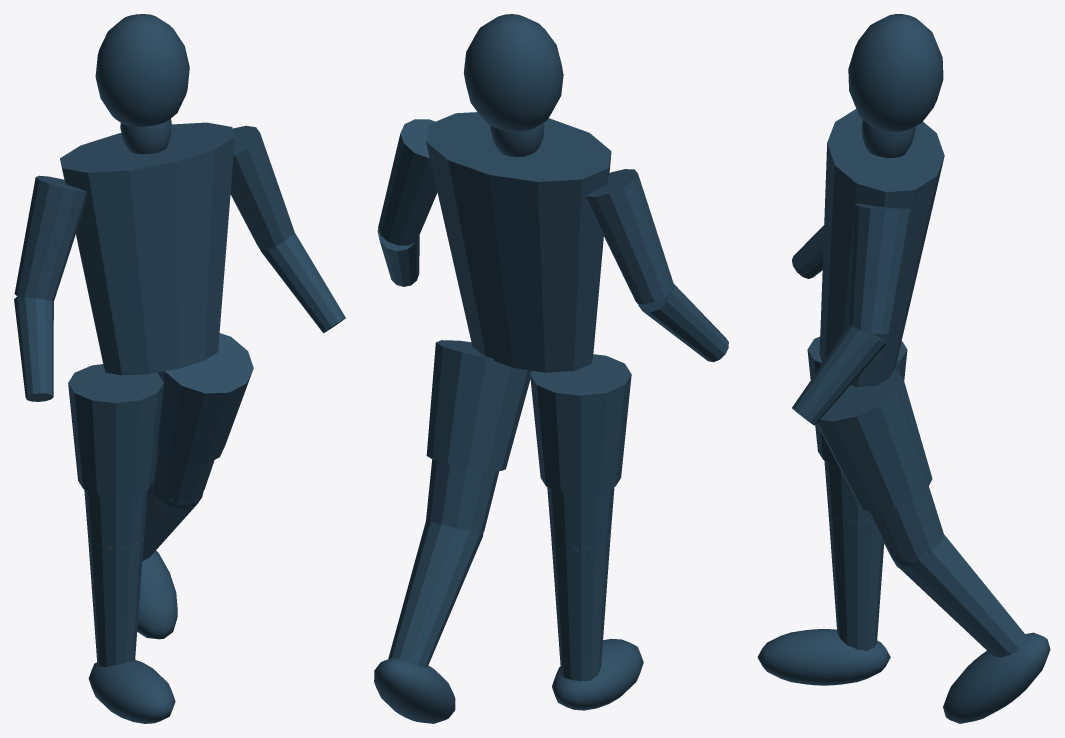
The model's file is right_foot.glb.
3 views of the same model, side by side, from view 1: azimuth 30°, elevation 25°; view 2: azimuth 150°, elevation 25°; view 3: azimuth 270°, elevation 25° (orthographic). The views are drawn at different scales.
Visible parts, largest first — view 1: shirt, left_shorts, head, right_shorts, left_arm, left_shin, right_arm, left_boot, left_forearm, right_forearm, left_thigh, right_boot (+3 smaller); view 2: shirt, left_shorts, right_shorts, head, right_shin, left_arm, left_shin, right_arm, right_thigh, right_boot, left_boot, left_thigh (+3 smaller); view 3: shirt, right_shorts, head, right_arm, right_shin, left_shin, left_boot, right_boot, right_forearm, right_thigh, left_thigh, neck (+2 smaller).
Part boxes in pixels (left/top/right/bottom): shirt: left=60, top=122, right=234, bottom=375; left_shorts: left=68, top=364, right=163, bottom=496; head: left=95, top=14, right=189, bottom=126; right_shorts: left=157, top=333, right=253, bottom=465; left_arm: left=14, top=175, right=86, bottom=301; left_shin: left=88, top=537, right=143, bottom=666; right_arm: left=230, top=125, right=294, bottom=250; left_boot: left=88, top=660, right=175, bottom=723; left_forearm: left=14, top=296, right=53, bottom=401; right_forearm: left=260, top=232, right=345, bottom=333; left_thigh: left=84, top=489, right=147, bottom=548; right_boot: left=137, top=550, right=177, bottom=639; shirt: left=426, top=112, right=611, bottom=372; left_shorts: left=530, top=354, right=631, bottom=494; right_shorts: left=426, top=340, right=531, bottom=470; head: left=463, top=14, right=563, bottom=131; right_shin: left=388, top=520, right=482, bottom=667; left_arm: left=585, top=169, right=674, bottom=304; left_shin: left=551, top=538, right=610, bottom=681; right_arm: left=378, top=119, right=437, bottom=245; right_thigh: left=426, top=459, right=499, bottom=532; right_boot: left=374, top=658, right=455, bottom=723; left_boot: left=552, top=638, right=643, bottom=710; left_thigh: left=547, top=487, right=614, bottom=549; shirt: left=819, top=109, right=944, bottom=387; right_shorts: left=816, top=371, right=932, bottom=511; head: left=848, top=14, right=943, bottom=131; right_arm: left=849, top=203, right=912, bottom=334; right_shin: left=898, top=534, right=1026, bottom=657; left_shin: left=828, top=510, right=884, bottom=650; left_boot: left=757, top=629, right=890, bottom=685; right_boot: left=943, top=632, right=1050, bottom=723; right_forearm: left=792, top=325, right=885, bottom=425; right_thigh: left=868, top=486, right=943, bottom=561; left_thigh: left=824, top=460, right=872, bottom=522; neck: left=862, top=120, right=915, bottom=157.
Size of the model in its own units: 0.9175 by 1.82 by 0.7032.
